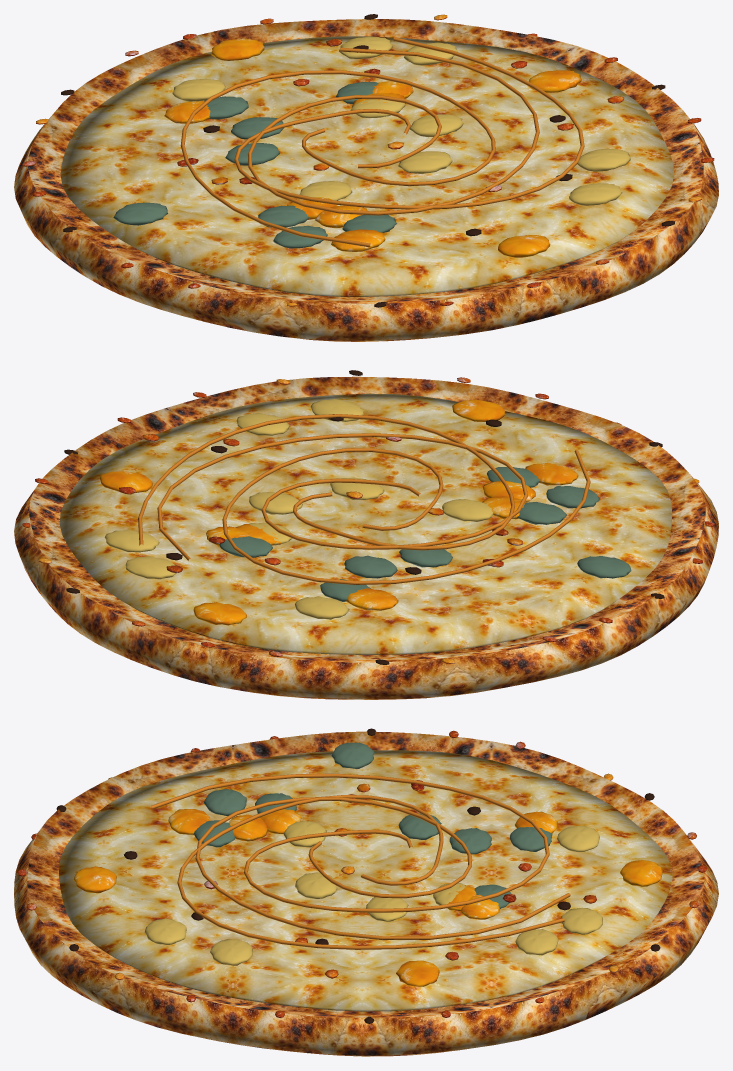
File: pizza-quatro-queijos.glb
3 renders of one model, top to bottom at view 1: azimuth 30°, elevation 25°; view 2: azimuth 150°, elevation 25°; view 3: azimuth 270°, elevation 25°, orthographic.
Visible parts, largest first — view 1: Mucarela001, Massa002, Fio_de_mel, Queijo_gratinado002, Queijo_gratinado001, Gratinado001, Gratinado; view 2: Mucarela001, Massa002, Fio_de_mel, Queijo_gratinado001, Queijo_gratinado002, Gratinado001, Gratinado; view 3: Mucarela001, Massa002, Fio_de_mel, Queijo_gratinado001, Queijo_gratinado002, Gratinado001, Gratinado.
Part boxes in pixels (bbox=[...]): Mucarela001: bbox=[60, 36, 674, 296]; Massa002: bbox=[14, 19, 718, 341]; Fio_de_mel: bbox=[180, 37, 584, 247]; Queijo_gratinado002: bbox=[113, 81, 396, 248]; Queijo_gratinado001: bbox=[164, 38, 581, 257]; Gratinado001: bbox=[22, 14, 714, 306]; Gratinado: bbox=[61, 14, 674, 307]; Mucarela001: bbox=[59, 393, 672, 654]; Massa002: bbox=[14, 376, 718, 699]; Fio_de_mel: bbox=[138, 414, 590, 584]; Queijo_gratinado001: bbox=[99, 399, 578, 625]; Queijo_gratinado002: bbox=[219, 467, 631, 601]; Gratinado001: bbox=[22, 377, 714, 663]; Gratinado: bbox=[64, 370, 664, 664]; Mucarela001: bbox=[59, 750, 672, 1011]; Massa002: bbox=[14, 731, 718, 1056]; Fio_de_mel: bbox=[151, 773, 570, 949]; Queijo_gratinado001: bbox=[73, 809, 663, 986]; Queijo_gratinado002: bbox=[194, 742, 552, 908]; Gratinado001: bbox=[17, 730, 707, 1017]; Gratinado: bbox=[56, 728, 660, 1023].
Bounding box in the file's own units: 0.3 × 0.031 × 0.3.
Materials: 8 (4 with a texture image).
